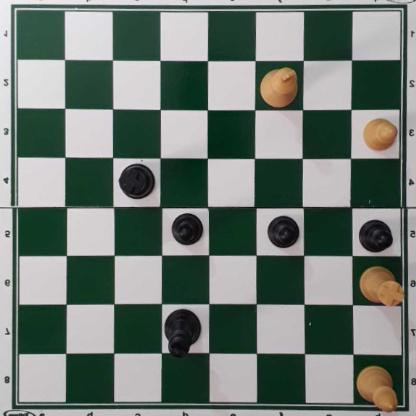black-king: (161, 310, 202, 360)
black-pawn: (358, 220, 393, 256), (169, 213, 204, 248), (266, 216, 300, 250)
black-rook: (118, 162, 156, 200)
white-bishop: (355, 366, 400, 415)
white-king: (258, 67, 297, 111)
white-pawn: (360, 117, 397, 154)
white-rook: (359, 267, 402, 308)
